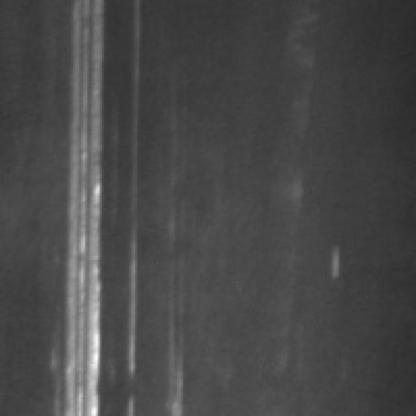scratches: (52, 0, 108, 414)
